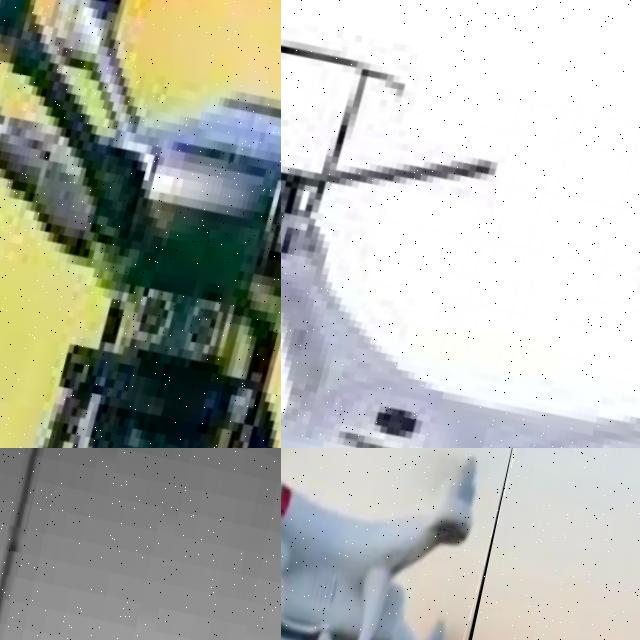0: (281, 448, 517, 640)
drone: (281, 0, 640, 448), (0, 0, 281, 448)
